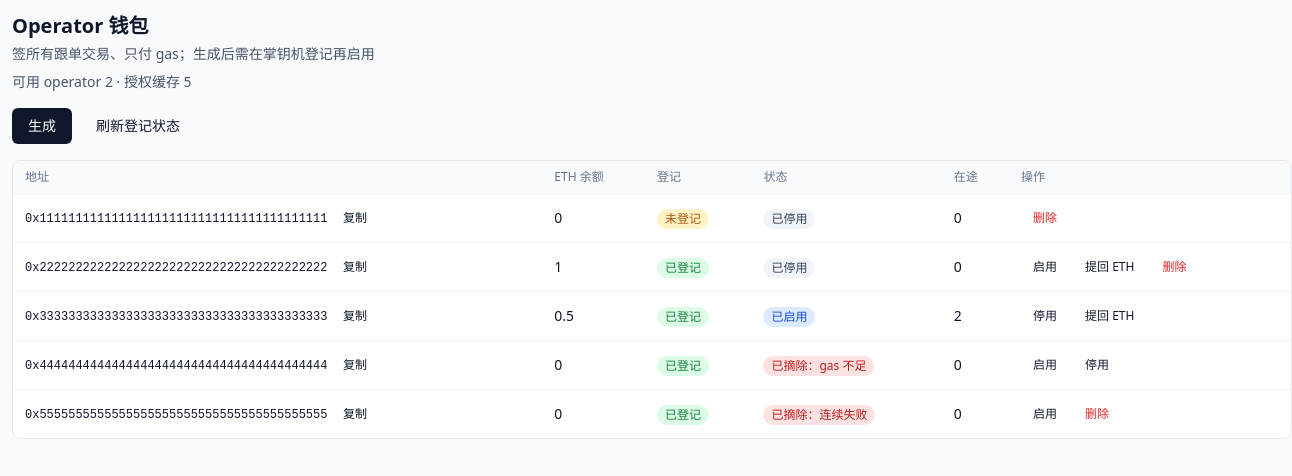
clears a stale row error once a different row succeeds
What coordinates should you click on to do the following:
click the 1st button "启用"
I would click on:
 (1045, 267)
Its box is [1021,251,1069,283].
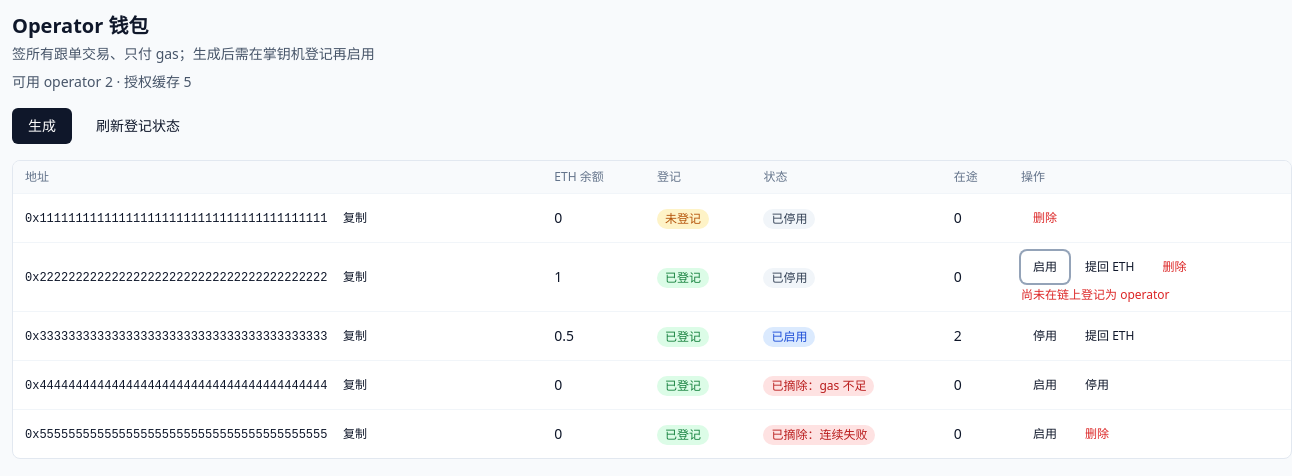
Expected: the text "尚未在链上登记为 operator" is shown, [1021,286,1170,303]
What coordinates should you click on to do the following:
click the button "停用" in the row of "0.5"
I would click on:
 (1045, 336)
Its box is [1021,320,1069,352].
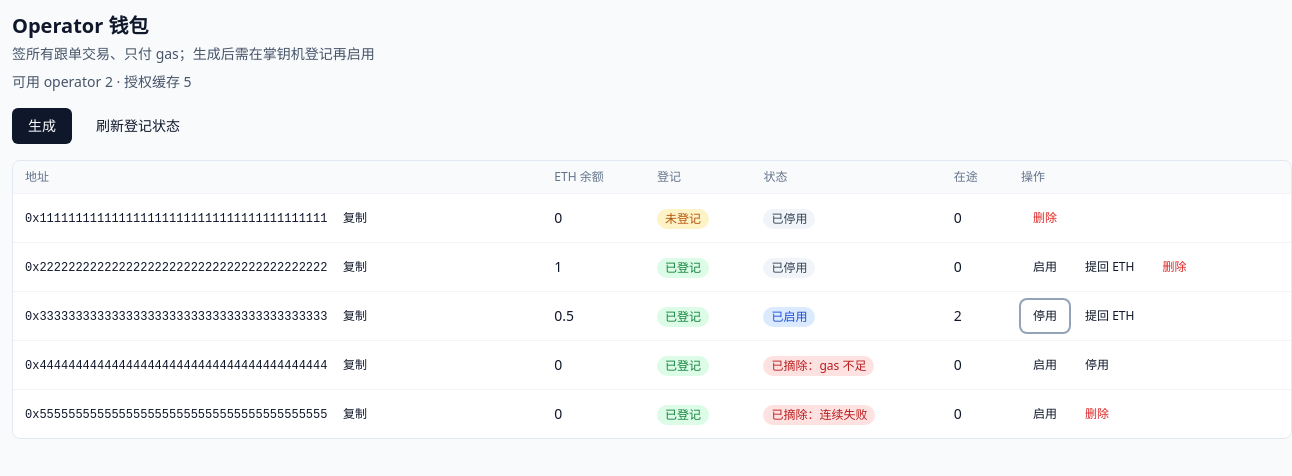
Expected: the text "尚未在链上登记为 operator" is gone
